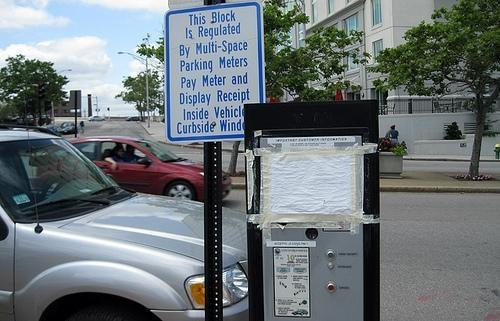car: (3, 126, 259, 318), (63, 135, 234, 204), (58, 122, 78, 135), (87, 115, 106, 122)
truck: (0, 124, 250, 321)
